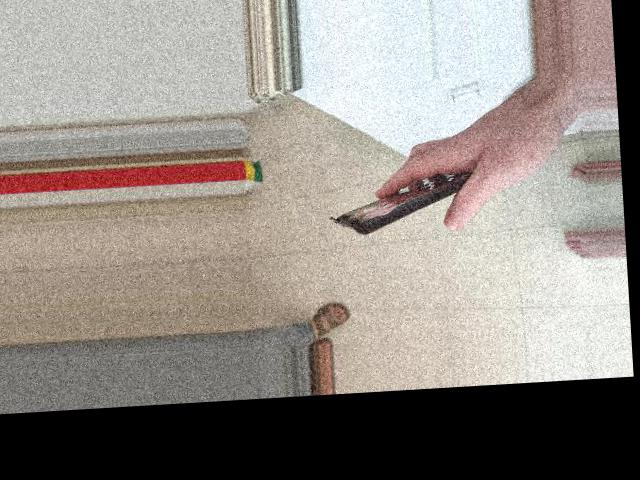chocolate: (329, 154, 491, 246)
